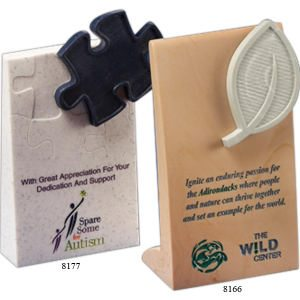puzzle piece: (46, 4, 167, 133)
